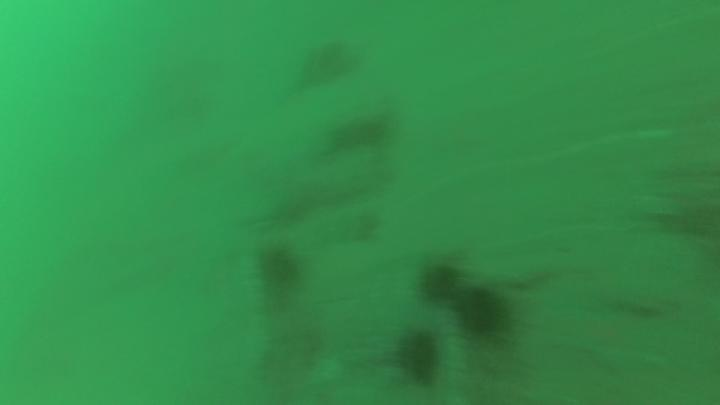echinus: (391, 324, 446, 390), (452, 283, 511, 340), (415, 256, 465, 307), (262, 245, 302, 300)
